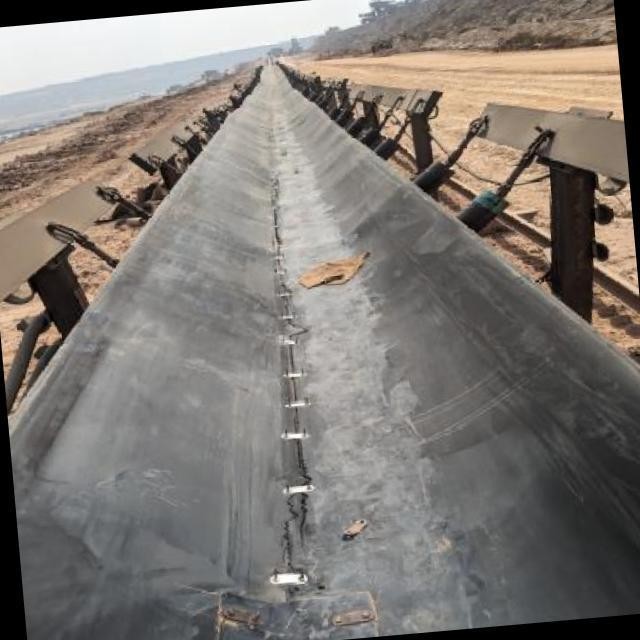Tear: (268, 177, 315, 532), (275, 483, 302, 602)
